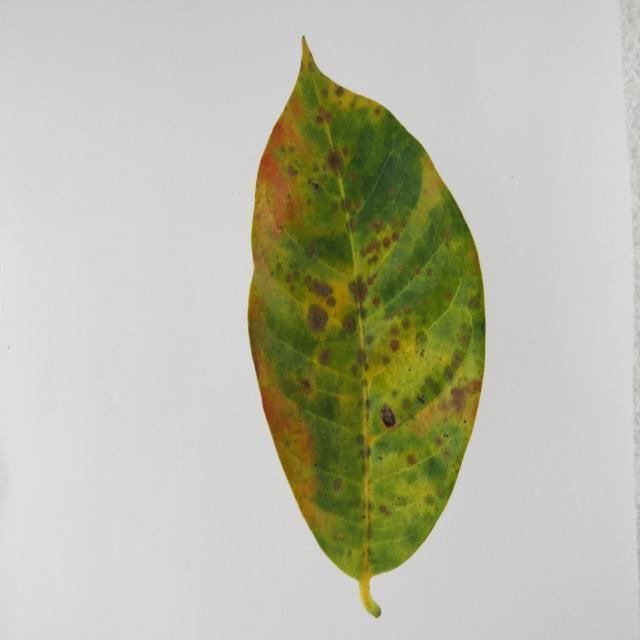DeficienciaNutricional-Fosforo: (249, 38, 485, 617)
